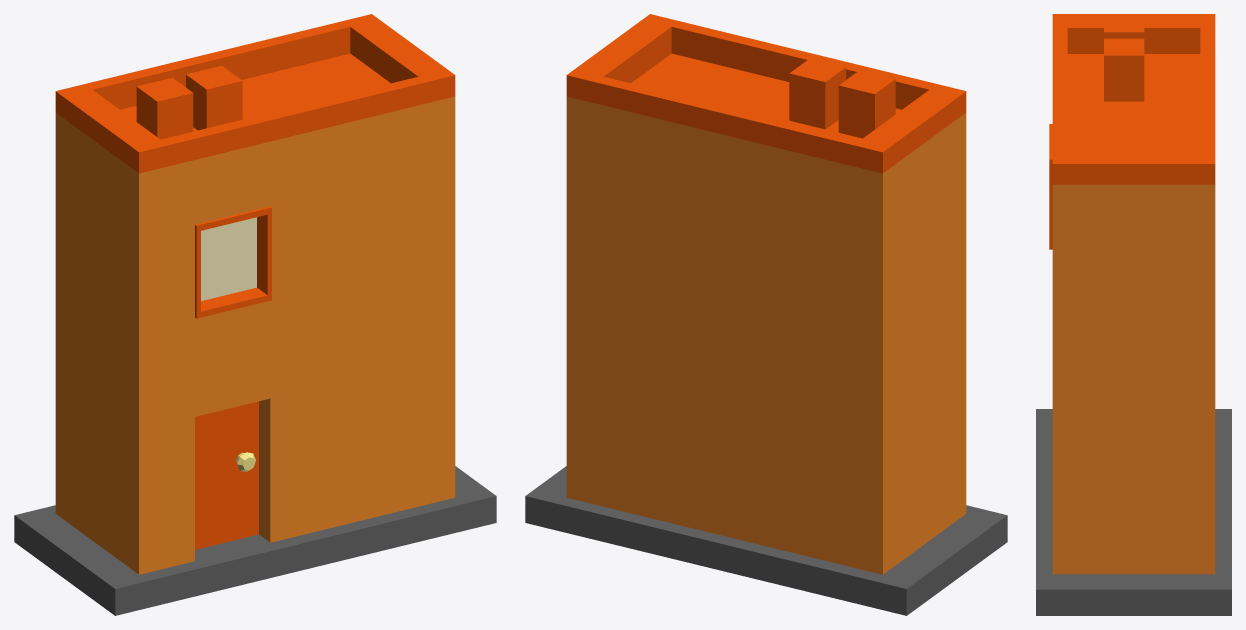
Rendered from Building 8.2.fbx.
3 views of the same model, side by side, from view 1: azimuth 30°, elevation 25°; view 2: azimuth 150°, elevation 25°; view 3: azimuth 270°, elevation 25° (orthographic). The views are drawn at different scales.
Visible parts, largest first — view 1: Cube; view 2: Cube; view 3: Cube.
Boxes of the visible parts, <box> form: Cube: <box>14,14,496,615</box>; Cube: <box>525,14,1007,615</box>; Cube: <box>1036,14,1231,615</box>.
Bounding box in the file's own units: 8378 × 9866 × 3837.
